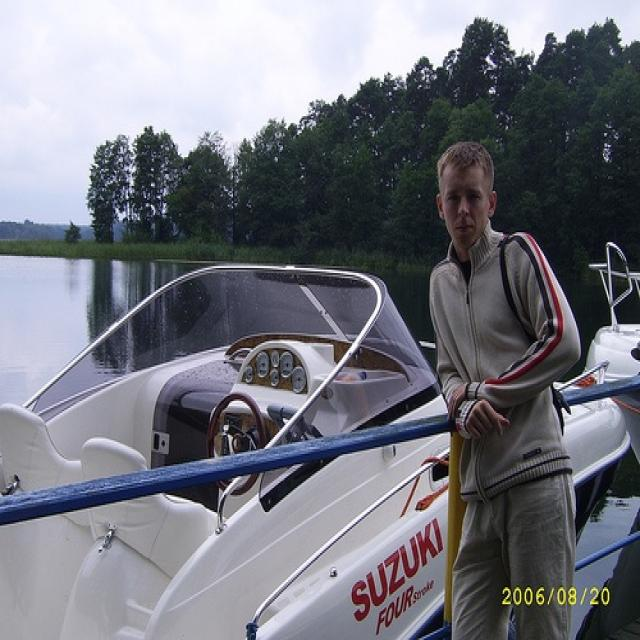boat: (5, 260, 630, 638)
